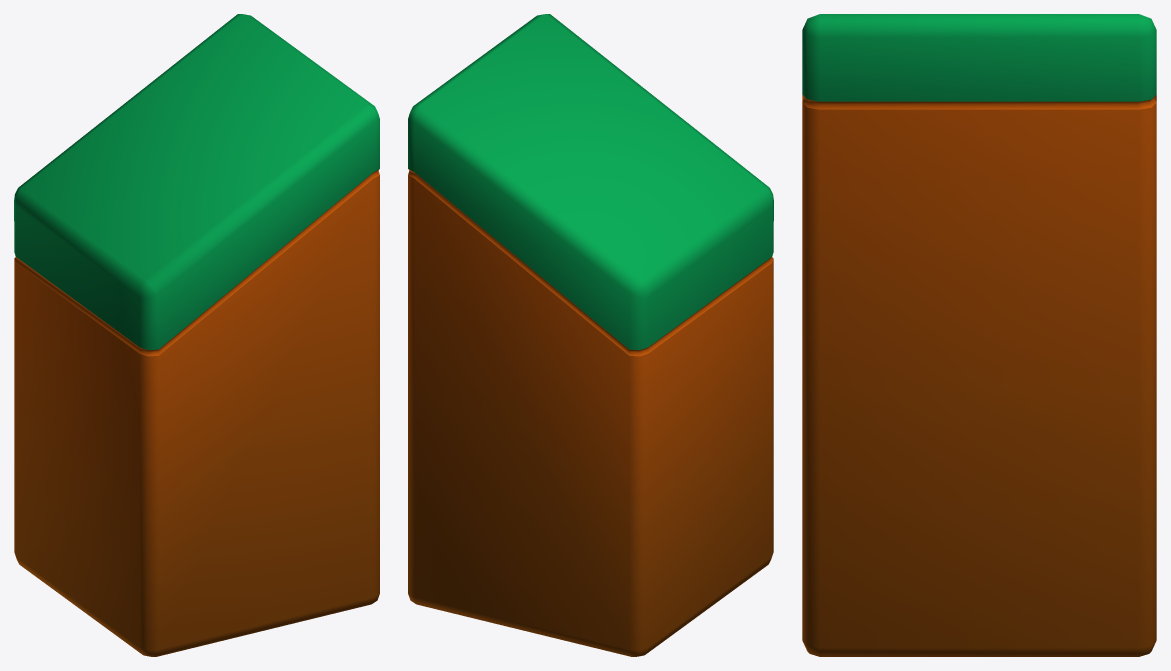
Rendered from 3D_Tile_Ground_01x02v03.fbx.
The picture shows the model from 3 angles, left to right: view 1: azimuth 30°, elevation 25°; view 2: azimuth 150°, elevation 25°; view 3: azimuth 270°, elevation 25°; orthographic projection. The views are drawn at different scales.
Parts seen in each view (by area): view 1: 3D_Tile_Ground_01x02v03; view 2: 3D_Tile_Ground_01x02v03; view 3: 3D_Tile_Ground_01x02v03.
Boxes of the visible parts, <box> form: 3D_Tile_Ground_01x02v03: <box>14,14,379,656</box>; 3D_Tile_Ground_01x02v03: <box>408,14,773,656</box>; 3D_Tile_Ground_01x02v03: <box>802,14,1156,656</box>.
Size of the model in its own units: 200 by 400 by 200.
